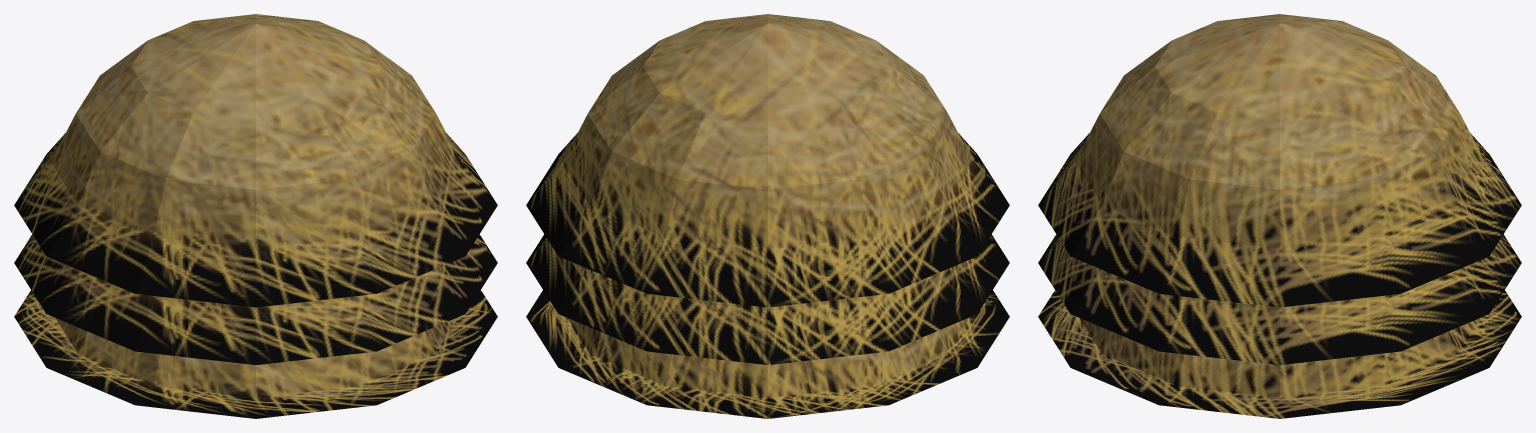
The model's file is Hay_b.FBX.
3 renders of one model, left to right at view 1: azimuth 30°, elevation 25°; view 2: azimuth 150°, elevation 25°; view 3: azimuth 270°, elevation 25°, orthographic.
Parts seen in each view (by area): view 1: Hay_b; view 2: Hay_b; view 3: Hay_b.
Part boxes in pixels (x1,y1,x2,y2): Hay_b: [14, 14, 497, 418]; Hay_b: [526, 14, 1009, 418]; Hay_b: [1038, 14, 1521, 418].
Size of the model in its own units: 106 by 106 by 70.92.
